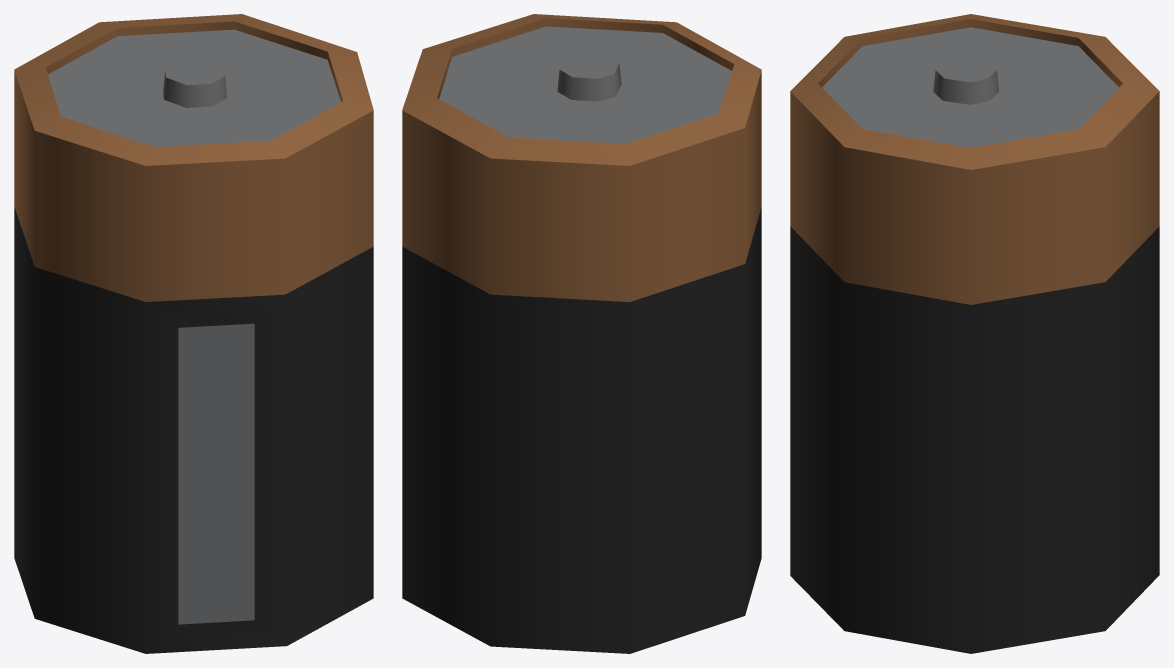
File: battery_big.glb
The picture shows the model from 3 angles, left to right: view 1: azimuth 30°, elevation 25°; view 2: azimuth 150°, elevation 25°; view 3: azimuth 270°, elevation 25°; orthographic projection.
Parts seen in each view (by area): view 1: Battery_Big; view 2: Battery_Big; view 3: Battery_Big.
Part boxes in pixels (x1,y1,x2,y2): Battery_Big: (14,14,373,653); Battery_Big: (402,14,761,653); Battery_Big: (790,14,1159,653).
Size of the model in its own units: 0.036 by 0.0544 by 0.036.
1 material, 1 textured.
